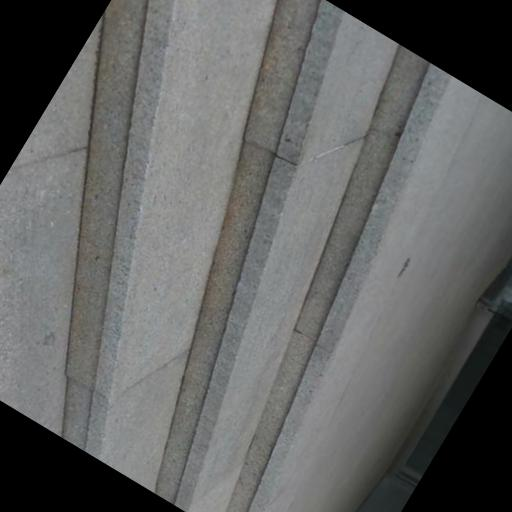stairs: (62, 0, 430, 511), (0, 17, 101, 435)
